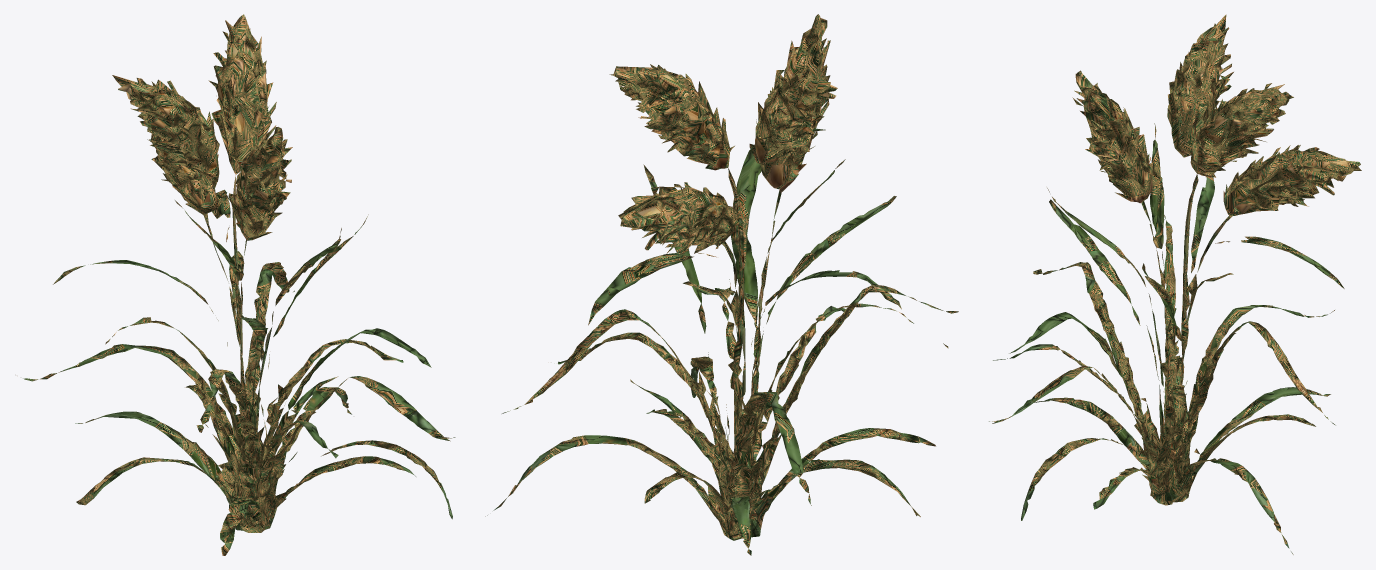
File: reeds.glb
3 views of the same model, side by side, from view 1: azimuth 30°, elevation 25°; view 2: azimuth 150°, elevation 25°; view 3: azimuth 270°, elevation 25° (orthographic). The views are drawn at different scales.
Bounding box in the file's own units: 1.54 × 1.9 × 1.49.
Materials: 1 (1 with a texture image).
